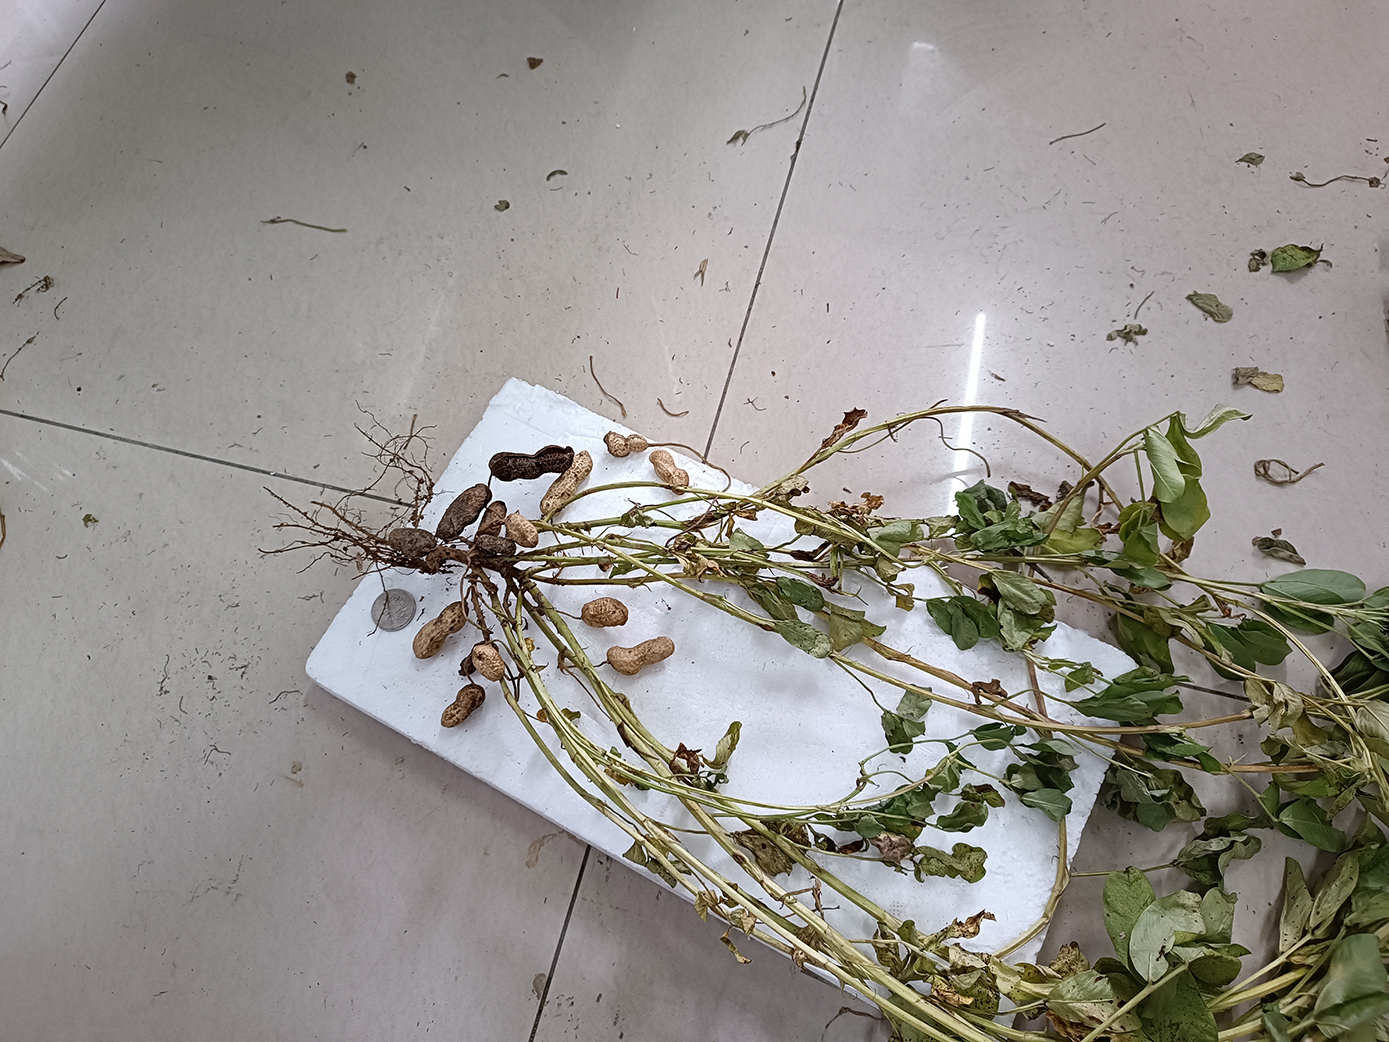h: (539, 451, 594, 513), (414, 600, 466, 659), (605, 636, 675, 674), (650, 450, 690, 493), (581, 597, 628, 627), (505, 513, 539, 548), (604, 431, 648, 458), (475, 645, 505, 678)
l: (488, 444, 574, 482), (437, 484, 489, 540), (442, 685, 487, 728), (387, 526, 438, 554), (477, 499, 507, 536), (474, 534, 516, 559), (459, 656, 475, 678)
